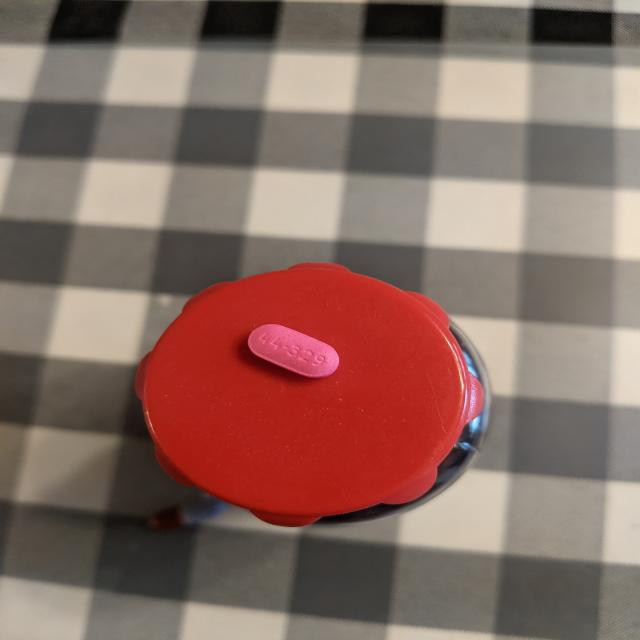non-organic waste: (247, 322, 341, 380)
